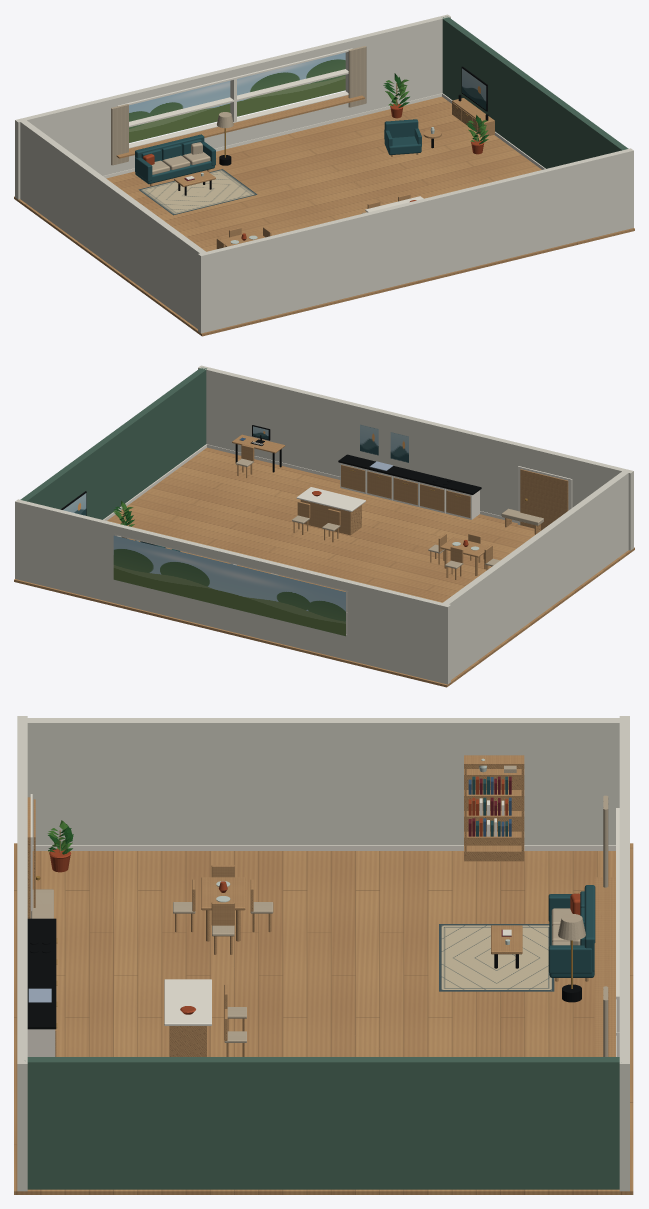
File: living_room.dae
3 views of the same model, one above another, from view 1: azimuth 30°, elevation 25°; view 2: azimuth 150°, elevation 25°; view 3: azimuth 270°, elevation 25° (orthographic). The views are drawn at different scales.
Parts seen in each view (by area): view 1: plaster, oak, sage, garden, white, teal, linen, rug, art, charcoal, terra; view 2: plaster, oak, sage, garden, white, charcoal, art, linen; view 3: oak, plaster, sage, white, rug, linen, charcoal, teal, terra.
Boxes of the visible parts, x1,y1,x2,y2 form: plaster: [15, 14, 633, 333]; oak: [14, 83, 634, 336]; sage: [442, 16, 628, 168]; garden: [129, 52, 345, 142]; white: [103, 48, 545, 212]; teal: [135, 119, 421, 184]; linen: [111, 46, 366, 213]; rug: [138, 169, 257, 215]; art: [462, 68, 486, 109]; charcoal: [178, 66, 488, 195]; terra: [143, 103, 484, 240]; plaster: [15, 365, 633, 684]; oak: [14, 434, 634, 687]; sage: [20, 367, 206, 519]; garden: [113, 535, 345, 636]; white: [103, 441, 572, 635]; charcoal: [61, 425, 481, 515]; art: [63, 424, 408, 515]; linen: [121, 458, 543, 575]; oak: [14, 755, 633, 1194]; plaster: [17, 716, 629, 1191]; sage: [27, 1057, 619, 1189]; white: [27, 794, 619, 1056]; rug: [439, 924, 554, 991]; linen: [31, 765, 608, 1056]; charcoal: [27, 918, 581, 1029]; teal: [472, 776, 595, 977]; terra: [49, 776, 580, 1014].
Size of the model in its own units: 16.4 by 12.38 by 2.88.
18 materials, 5 textured.
